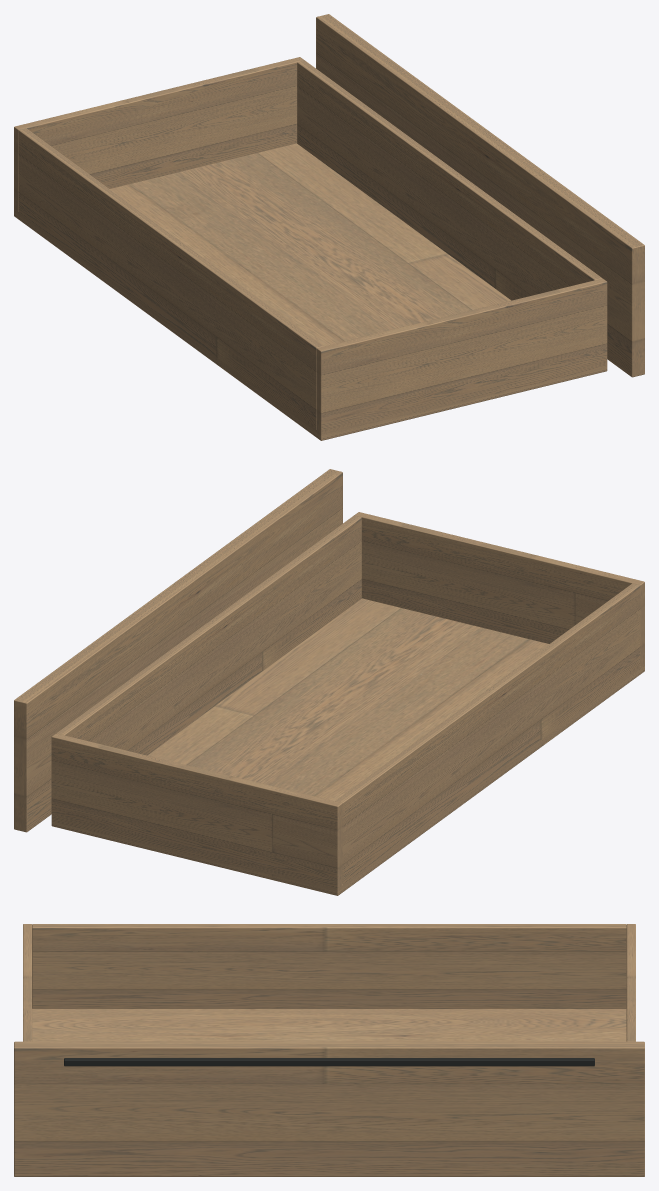
File: vanity_lower_drawer.glb
The picture shows the model from 3 angles, top to bottom: view 1: azimuth 30°, elevation 25°; view 2: azimuth 150°, elevation 25°; view 3: azimuth 270°, elevation 25°; orthographic projection.
Parts seen in each view (by area): view 1: vanity_lower_drawer_bin_0_floor, vanity_lower_drawer_bin_0_end_-0.262, vanity_lower_drawer_bin_0_side_-1, vanity_lower_drawer_front, vanity_lower_drawer_bin_0_end_0.282, vanity_lower_drawer; view 2: vanity_lower_drawer_bin_0_floor, vanity_lower_drawer_bin_0_end_-0.262, vanity_lower_drawer, vanity_lower_drawer_front, vanity_lower_drawer_bin_0_end_0.282, vanity_lower_drawer_bin_0_side_-1; view 3: vanity_lower_drawer_front, vanity_lower_drawer_bin_0_end_-0.262, vanity_lower_drawer_bin_0_floor, vanity_lower_drawer_pull, vanity_lower_drawer, vanity_lower_drawer_bin_0_side_-1.
Boxes of the visible parts, x1,y1,x2,y2 form: vanity_lower_drawer_bin_0_floor: (14, 143, 607, 440); vanity_lower_drawer_bin_0_end_-0.262: (18, 128, 323, 431); vanity_lower_drawer_bin_0_side_-1: (316, 278, 607, 435); vanity_lower_drawer_front: (316, 14, 644, 377); vanity_lower_drawer_bin_0_end_0.282: (297, 60, 602, 300); vanity_lower_drawer: (14, 57, 304, 214); vanity_lower_drawer_bin_0_floor: (51, 598, 644, 895); vanity_lower_drawer_bin_0_end_-0.262: (335, 583, 640, 886); vanity_lower_drawer: (51, 733, 342, 891); vanity_lower_drawer_front: (14, 469, 342, 832); vanity_lower_drawer_bin_0_end_0.282: (56, 515, 361, 755); vanity_lower_drawer_bin_0_side_-1: (354, 512, 644, 666); vanity_lower_drawer_front: (14, 1041, 644, 1176); vanity_lower_drawer_bin_0_end_-0.262: (32, 924, 626, 1008); vanity_lower_drawer_bin_0_floor: (32, 1009, 626, 1041); vanity_lower_drawer_pull: (64, 1058, 594, 1066); vanity_lower_drawer: (626, 924, 635, 1041); vanity_lower_drawer_bin_0_side_-1: (23, 924, 32, 1041).
Size of the model in its own units: 0.634 by 0.242 by 1.07.
2 materials, 1 textured.
